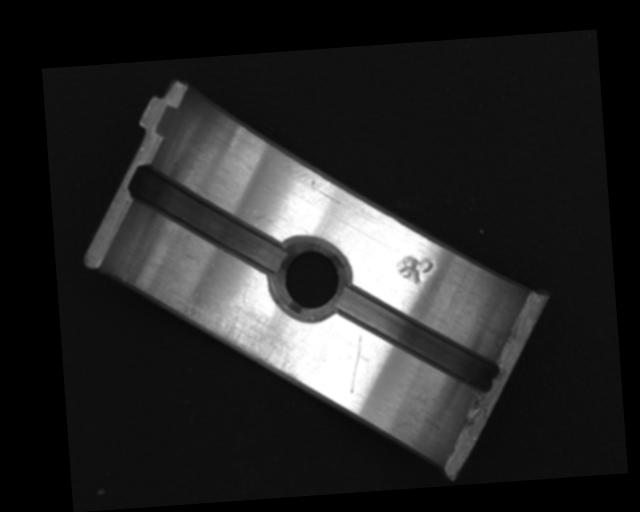bruise: (394, 253, 437, 291)
gap: (126, 156, 289, 282), (335, 279, 500, 401)
hole: (266, 230, 353, 321)
nick: (345, 332, 368, 394)
scratch: (175, 280, 304, 391)
